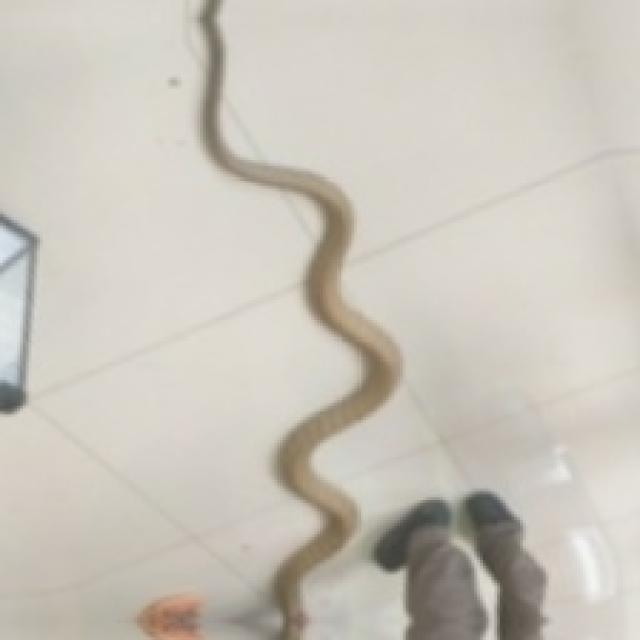king cobra: (200, 0, 400, 637)
